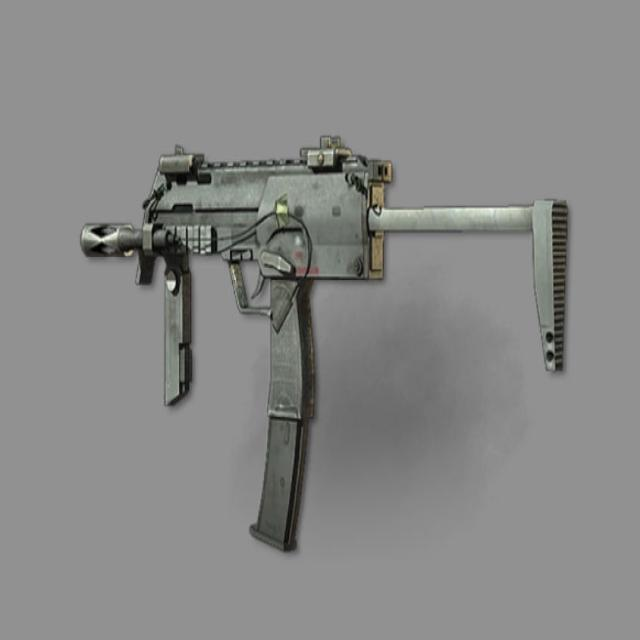Weapon: (80, 136, 568, 550)
